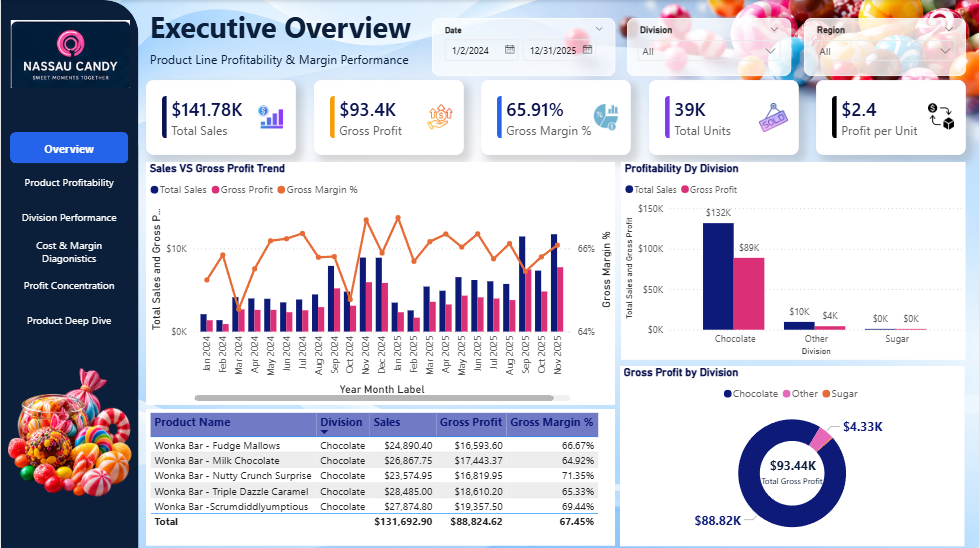

What the dashboard file says about the page in this screenshot:
{"tool":"powerbi","page":{"name":"Overview","canvas":[1280,720],"ordinal":0},"visuals":[{"type":"shape","box":[0,0,180,720],"z":0},{"type":"image","box":[7.2,25.9,165.6,89.3],"z":1000},{"type":"pageNavigator","box":[11.7,172.5,155.8,271.7],"z":2000},{"type":"image","box":[0,480,180,172],"z":3000},{"type":"textbox","box":[190.1,5.8,360,61.9],"z":4000},{"type":"textbox","box":[190.1,61.9,390.2,31.7],"z":5000},{"type":"slicer","fields":{"Values":["DimDate.Date"]},"box":[564.5,23,240.5,76.3],"z":6000},{"type":"slicer","fields":{"Values":["DimProduct.Division"]},"box":[819.4,23,214.6,76.3],"z":7000},{"type":"slicer","fields":{"Values":["DimCustomer.Region"]},"box":[1051.2,23,211.7,76.3],"z":8000},{"type":"cardVisual","fields":{"Data":["_Measures.Total Sales"]},"box":[190.1,104.7,195.8,97.9],"z":9000},{"type":"image","box":[335.7,133.6,34.3,37.9],"z":10000},{"type":"cardVisual","fields":{"Data":["_Measures.Profit per Unit"]},"box":[1067,104.7,195.8,97.9],"z":11000},{"type":"cardVisual","fields":{"Data":["_Measures.Gross Profit"]},"box":[409.3,104.7,195.8,97.9],"z":12000},{"type":"cardVisual","fields":{"Data":["_Measures.Gross Margin %"]},"box":[628.6,104.7,195.8,97.9],"z":13000},{"type":"cardVisual","fields":{"Data":["_Measures.Total Units"]},"box":[847.8,104.7,195.8,97.9],"z":14000},{"type":"image","box":[557.1,135,33.6,36.4],"z":15000},{"type":"image","box":[774.3,134.3,37.1,37.1],"z":16000},{"type":"image","box":[992.1,134.3,38.6,37.9],"z":17000},{"type":"image","box":[1213.6,131.4,34.3,42.9],"z":18000},{"type":"lineClusteredColumnComboChart","title":"Sales VS Gross Profit Trend","fields":{"Category":["DimDate.Year Month Label"],"Y":["_Measures.Total Sales","_Measures.Gross Profit"],"Y2":["_Measures.Gross Margin %"]},"box":[190,211.7,614.2,318.3],"z":19000},{"type":"clusteredColumnChart","title":"Profitability Dy Division","fields":{"Category":["DimProduct.Division"],"Y":["_Measures.Total Sales","_Measures.Gross Profit"]},"box":[811.4,211.4,451.4,258.6],"z":20000},{"type":"tableEx","fields":{"Values":["DimProduct.Product Name","DimProduct.Division","Sum(FactSales.Sales)","_Measures.Gross Profit","_Measures.Gross Margin %"]},"box":[190,535.7,614.3,178.6],"z":21000},{"type":"donutChart","fields":{"Category":["DimProduct.Division"],"Y":["_Measures.Gross Profit"]},"box":[810.7,479.5,450.7,236.2],"z":22000},{"type":"textbox","box":[997.3,593.6,78.2,61.8],"z":23000},{"type":"textbox","box":[840.9,613.6,390,32.7],"z":24000}]}

Visuals, with their boxes in screenshot pixels (x1, y1, x2, y2), scaled from the page's 1280x720 canvas onto the 980x548 screenshot:
shape: [left=0, top=0, right=138, bottom=547]
image: [left=6, top=20, right=132, bottom=88]
pageNavigator: [left=9, top=131, right=128, bottom=338]
image: [left=0, top=365, right=138, bottom=496]
textbox: [left=146, top=4, right=421, bottom=52]
textbox: [left=146, top=47, right=444, bottom=71]
slicer - DimDate.Date: [left=432, top=18, right=616, bottom=76]
slicer - DimProduct.Division: [left=627, top=18, right=792, bottom=76]
slicer - DimCustomer.Region: [left=805, top=18, right=967, bottom=76]
cardVisual - _Measures.Total Sales: [left=146, top=80, right=295, bottom=154]
image: [left=257, top=102, right=283, bottom=131]
cardVisual - _Measures.Profit per Unit: [left=817, top=80, right=967, bottom=154]
cardVisual - _Measures.Gross Profit: [left=313, top=80, right=463, bottom=154]
cardVisual - _Measures.Gross Margin %: [left=481, top=80, right=631, bottom=154]
cardVisual - _Measures.Total Units: [left=649, top=80, right=799, bottom=154]
image: [left=427, top=103, right=452, bottom=130]
image: [left=593, top=102, right=621, bottom=130]
image: [left=760, top=102, right=789, bottom=131]
image: [left=929, top=100, right=955, bottom=133]
"Sales VS Gross Profit Trend" lineClusteredColumnComboChart: [left=145, top=161, right=616, bottom=403]
"Profitability Dy Division" clusteredColumnChart: [left=621, top=161, right=967, bottom=358]
tableEx - DimProduct.Product Name x DimProduct.Division: [left=145, top=408, right=616, bottom=544]
donutChart - DimProduct.Division x _Measures.Gross Profit: [left=621, top=365, right=966, bottom=545]
textbox: [left=764, top=452, right=823, bottom=499]
textbox: [left=644, top=467, right=942, bottom=492]
